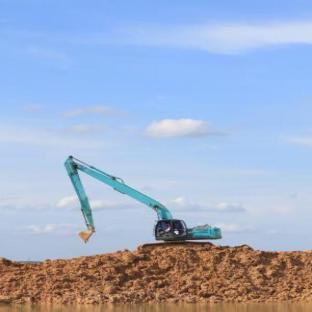ExcavationMachinery: (53, 155, 231, 260)
